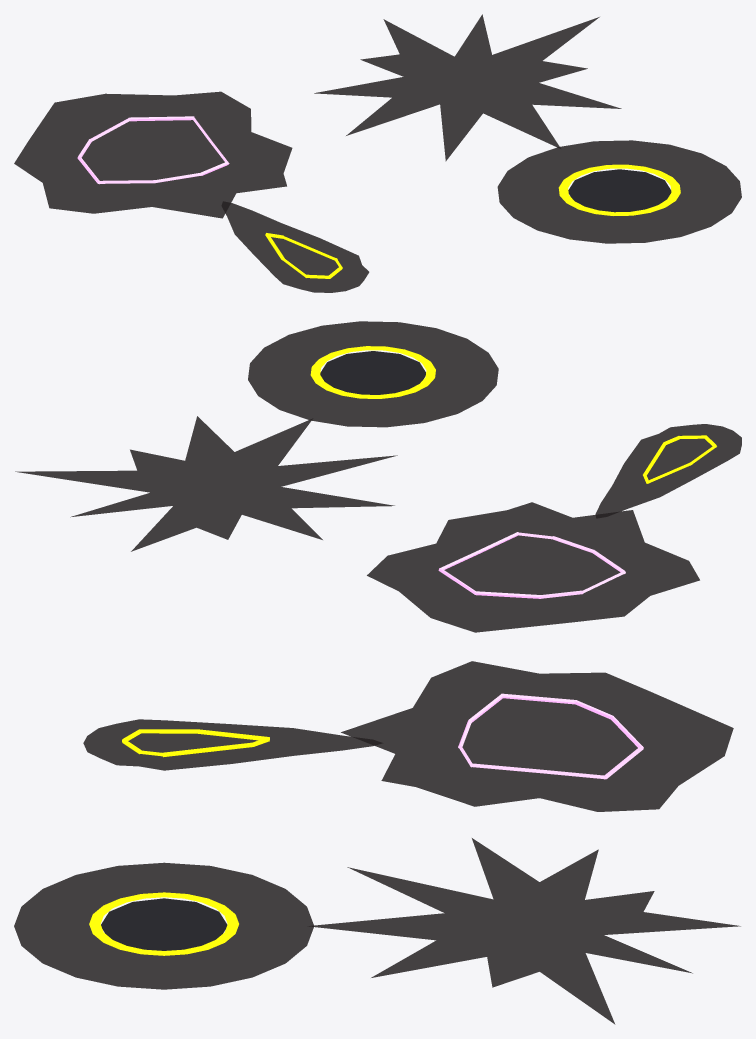
Rendered from FX_Scorch.fbx.
The picture shows the model from 3 angles, top to bottom: view 1: azimuth 30°, elevation 25°; view 2: azimuth 150°, elevation 25°; view 3: azimuth 270°, elevation 25°; orthographic projection. The views are drawn at different scales.
Visible parts, largest first — view 1: Scorch_Round, Scorch_Splat, Scorch_Crater, Scorch_BurnStreak, Scorch_CraterPit, Scorch_CraterEmbers, Scorch_RoundEmbers, Scorch_BurnStreakEmbers; view 2: Scorch_Round, Scorch_Splat, Scorch_Crater, Scorch_BurnStreak, Scorch_CraterPit, Scorch_CraterEmbers, Scorch_RoundEmbers, Scorch_BurnStreakEmbers; view 3: Scorch_Round, Scorch_Splat, Scorch_Crater, Scorch_BurnStreak, Scorch_CraterPit, Scorch_CraterEmbers, Scorch_RoundEmbers, Scorch_BurnStreakEmbers.
Part boxes in pixels (x1=…): Scorch_Round: x1=14, y1=91, x2=292, y2=218; Scorch_Splat: x1=314, y1=14, x2=621, y2=161; Scorch_Crater: x1=497, y1=140, x2=741, y2=243; Scorch_BurnStreak: x1=221, y1=203, x2=369, y2=292; Scorch_CraterPit: x1=568, y1=169, x2=671, y2=212; Scorch_CraterEmbers: x1=558, y1=164, x2=680, y2=215; Scorch_RoundEmbers: x1=77, y1=116, x2=229, y2=184; Scorch_BurnStreakEmbers: x1=265, y1=233, x2=342, y2=278; Scorch_Round: x1=367, y1=502, x2=699, y2=632; Scorch_Splat: x1=15, y1=416, x2=397, y2=551; Scorch_Crater: x1=248, y1=321, x2=498, y2=427; Scorch_BurnStreak: x1=595, y1=424, x2=741, y2=518; Scorch_CraterPit: x1=320, y1=351, x2=425, y2=394; Scorch_CraterEmbers: x1=310, y1=346, x2=435, y2=398; Scorch_RoundEmbers: x1=438, y1=532, x2=625, y2=598; Scorch_BurnStreakEmbers: x1=643, y1=435, x2=716, y2=483; Scorch_Round: x1=341, y1=661, x2=733, y2=811; Scorch_Splat: x1=309, y1=838, x2=740, y2=1024; Scorch_Crater: x1=14, y1=862, x2=314, y2=989; Scorch_BurnStreak: x1=83, y1=719, x2=383, y2=770; Scorch_CraterPit: x1=101, y1=898, x2=227, y2=950; Scorch_CraterEmbers: x1=89, y1=892, x2=238, y2=955; Scorch_RoundEmbers: x1=458, y1=693, x2=643, y2=779; Scorch_BurnStreakEmbers: x1=122, y1=729, x2=269, y2=757.
Size of the model in its own units: 1.49 by 0.008 by 1.26.
